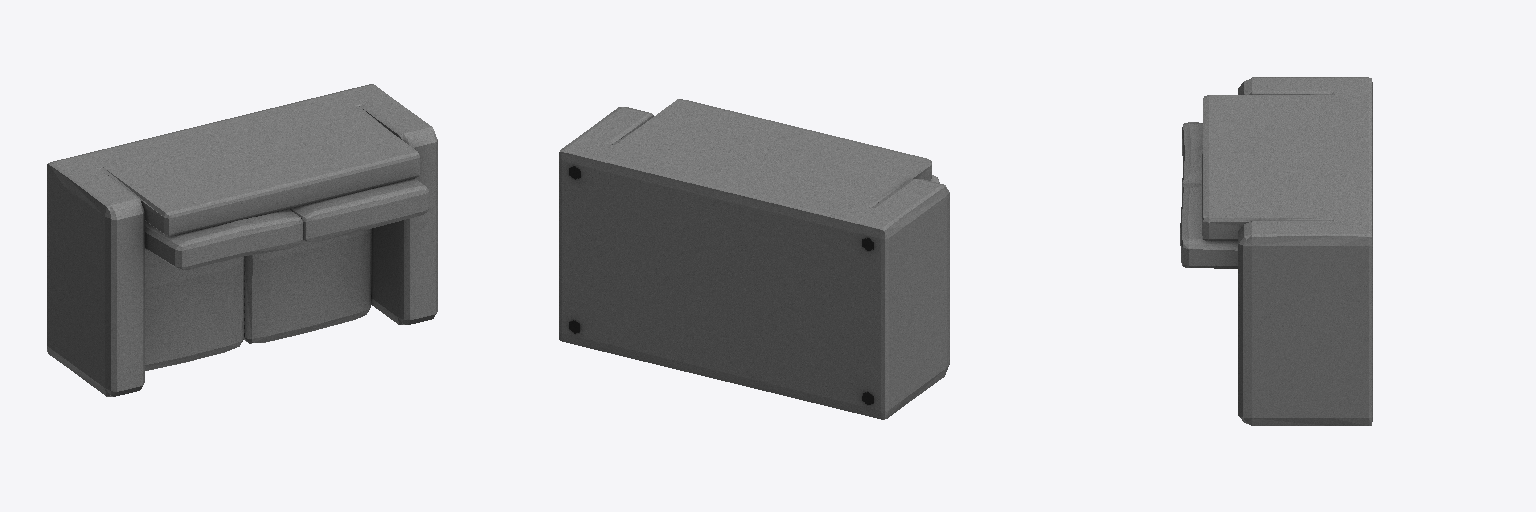
The picture shows the model from 3 angles: view 1: azimuth 30°, elevation 25°; view 2: azimuth 150°, elevation 25°; view 3: azimuth 270°, elevation 25°; orthographic projection.
Visible parts, largest first — view 1: Sofa_Sofa_Cylinder.014; view 2: Sofa_Sofa_Cylinder.014; view 3: Sofa_Sofa_Cylinder.014.
Boxes of the visible parts, box(x1,y1,x2,y2) form: Sofa_Sofa_Cylinder.014: box(47, 84, 437, 396); Sofa_Sofa_Cylinder.014: box(559, 99, 949, 419); Sofa_Sofa_Cylinder.014: box(1180, 77, 1372, 425).
Size of the model in its own units: 1.8 by 1.04 by 0.9427.
1 materials, 1 textured.